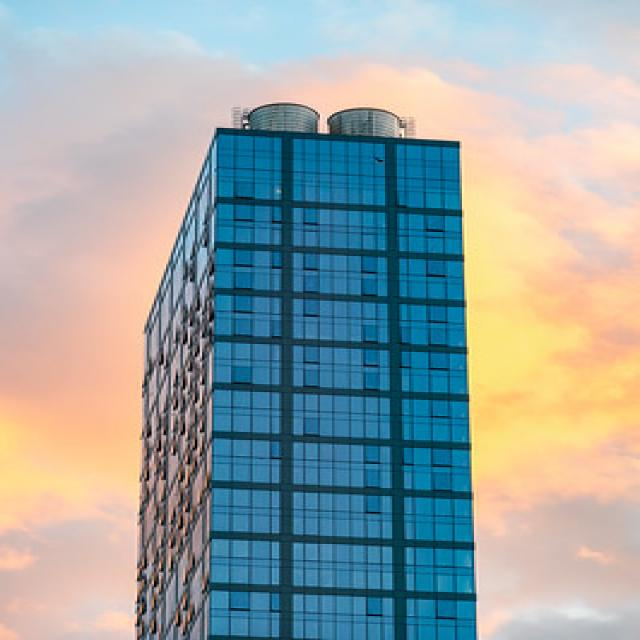Normal_building: (131, 93, 487, 638)
